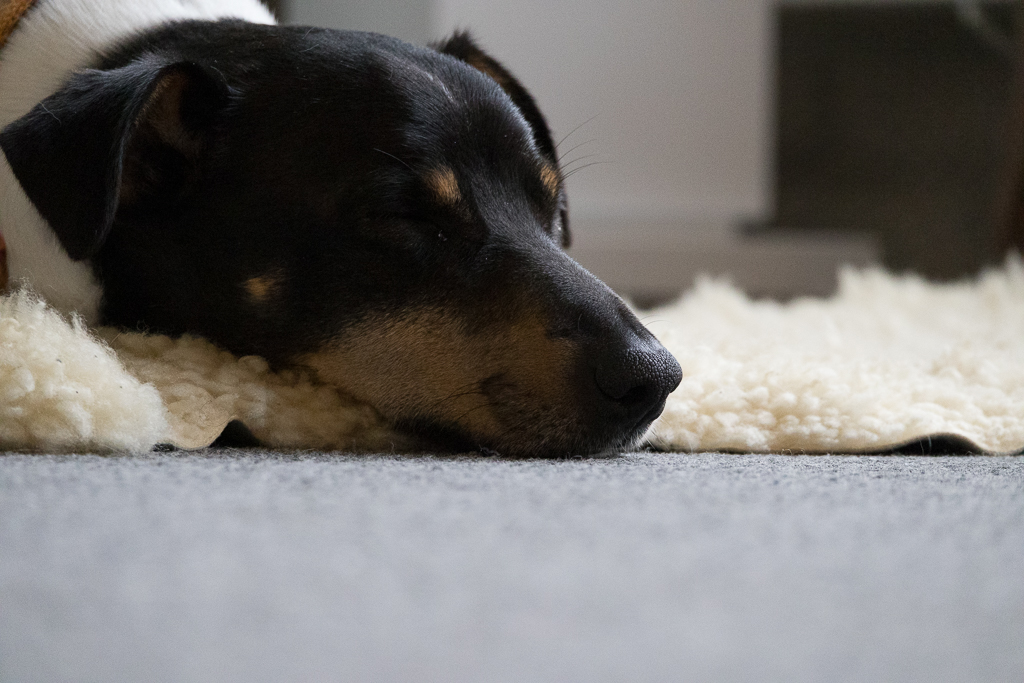Dog: (0, 0, 698, 465)
